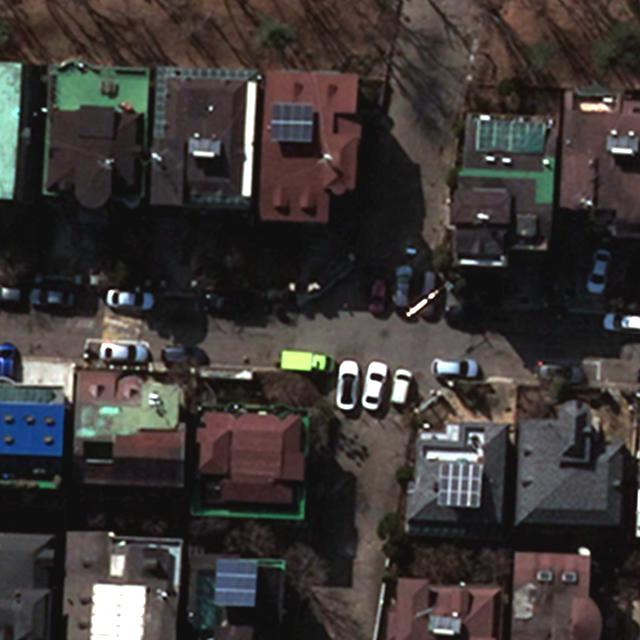solar: (212, 557, 261, 607), (436, 462, 486, 510), (269, 102, 316, 144)
